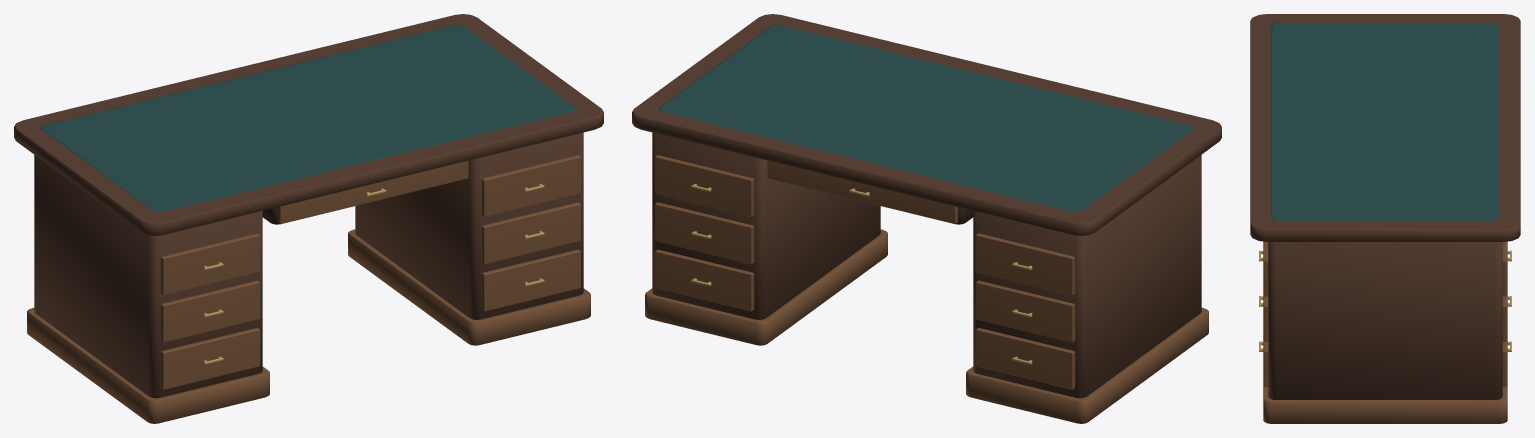
Rendered from rpg-mansion-partners-leather-desk-01.glb.
3 renders of one model, left to right at view 1: azimuth 30°, elevation 25°; view 2: azimuth 150°, elevation 25°; view 3: azimuth 270°, elevation 25°, orthographic. The views are drawn at different scales.
Parts seen in each view (by area): view 1: rpg-mansion-partners-leather-desk-01; view 2: rpg-mansion-partners-leather-desk-01; view 3: rpg-mansion-partners-leather-desk-01.
Boxes of the visible parts, left/top/right/bottom form: rpg-mansion-partners-leather-desk-01: left=14, top=14, right=603, bottom=423; rpg-mansion-partners-leather-desk-01: left=632, top=14, right=1221, bottom=423; rpg-mansion-partners-leather-desk-01: left=1250, top=14, right=1520, bottom=423.
Bounding box in the file's own units: 1.8 × 0.771 × 0.95.
